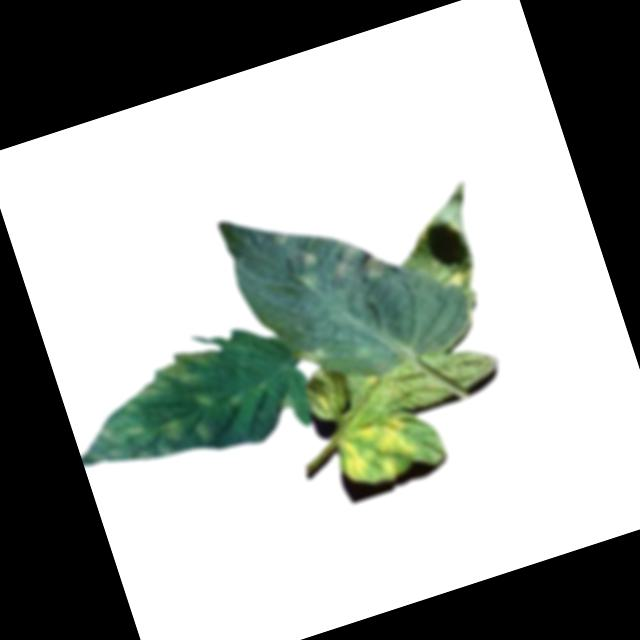Leaf_Mold: (331, 408, 424, 494), (119, 339, 227, 411), (327, 232, 395, 294), (287, 245, 324, 290), (155, 411, 192, 447), (188, 415, 219, 448), (294, 342, 330, 370)
